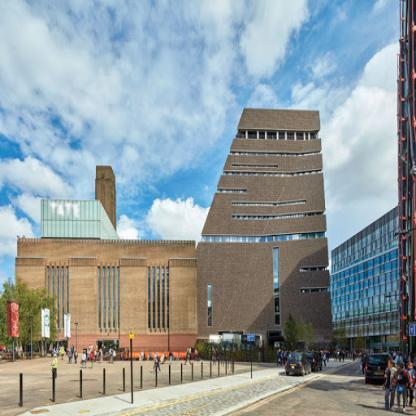Building Outline: (15, 107, 334, 362)
Door: (98, 340, 119, 353)
Facade: (15, 107, 334, 362)
Glass Wall: (41, 199, 120, 239), (274, 342, 330, 358)
Molding: (69, 258, 98, 268), (16, 257, 46, 265), (169, 258, 197, 266), (120, 258, 147, 266)
Window: (201, 232, 325, 243), (238, 131, 317, 141), (233, 212, 323, 220), (223, 170, 321, 177), (273, 248, 280, 325), (229, 152, 320, 157), (232, 200, 306, 206), (162, 267, 165, 330), (47, 268, 50, 329), (98, 268, 101, 328), (103, 268, 106, 328), (108, 268, 111, 328), (208, 285, 212, 327), (167, 267, 169, 330), (148, 267, 150, 330), (153, 267, 155, 330), (158, 267, 160, 330), (67, 268, 69, 329), (52, 268, 54, 329), (57, 268, 59, 329), (62, 268, 64, 329), (117, 268, 119, 328), (113, 268, 115, 328), (301, 289, 326, 293), (232, 166, 277, 168), (217, 190, 246, 193), (300, 268, 325, 271)
